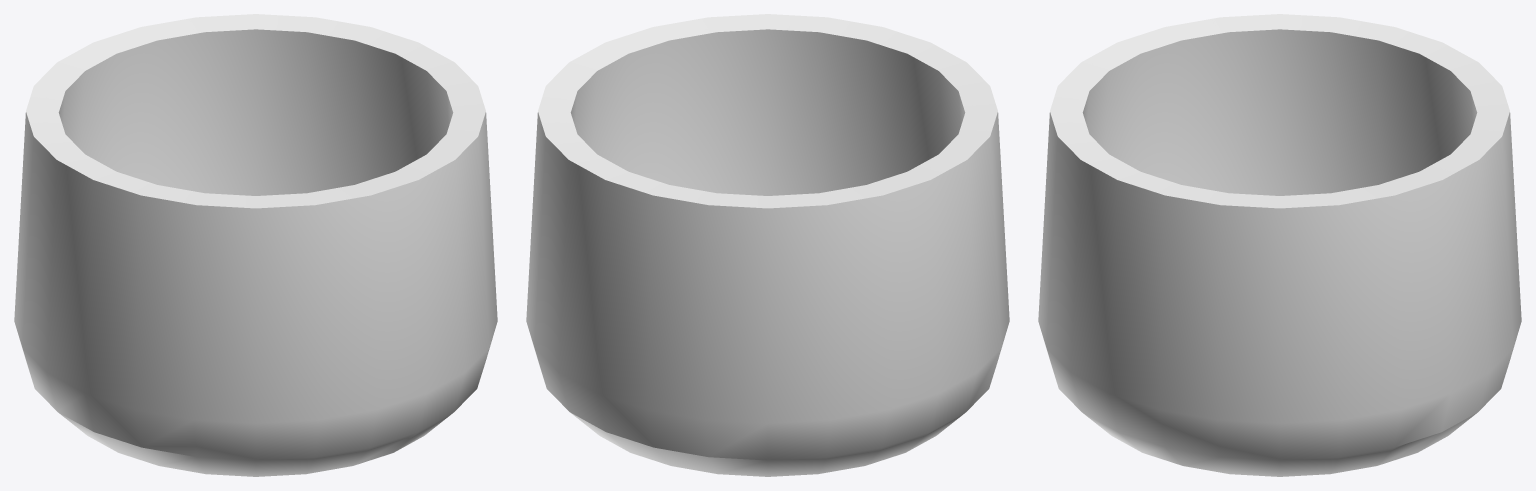
Rendered from mortal.fbx.
The picture shows the model from 3 angles, left to right: view 1: azimuth 30°, elevation 25°; view 2: azimuth 150°, elevation 25°; view 3: azimuth 270°, elevation 25°; orthographic projection.
Visible parts, largest first — view 1: mortal; view 2: mortal; view 3: mortal.
Boxes of the visible parts, x1,y1,x2,y2 form: mortal: [14, 14, 497, 476]; mortal: [526, 14, 1009, 476]; mortal: [1038, 14, 1521, 476].
Size of the model in its own units: 369 by 248 by 369.
